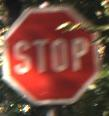Stop sign: (0, 0, 108, 115)
